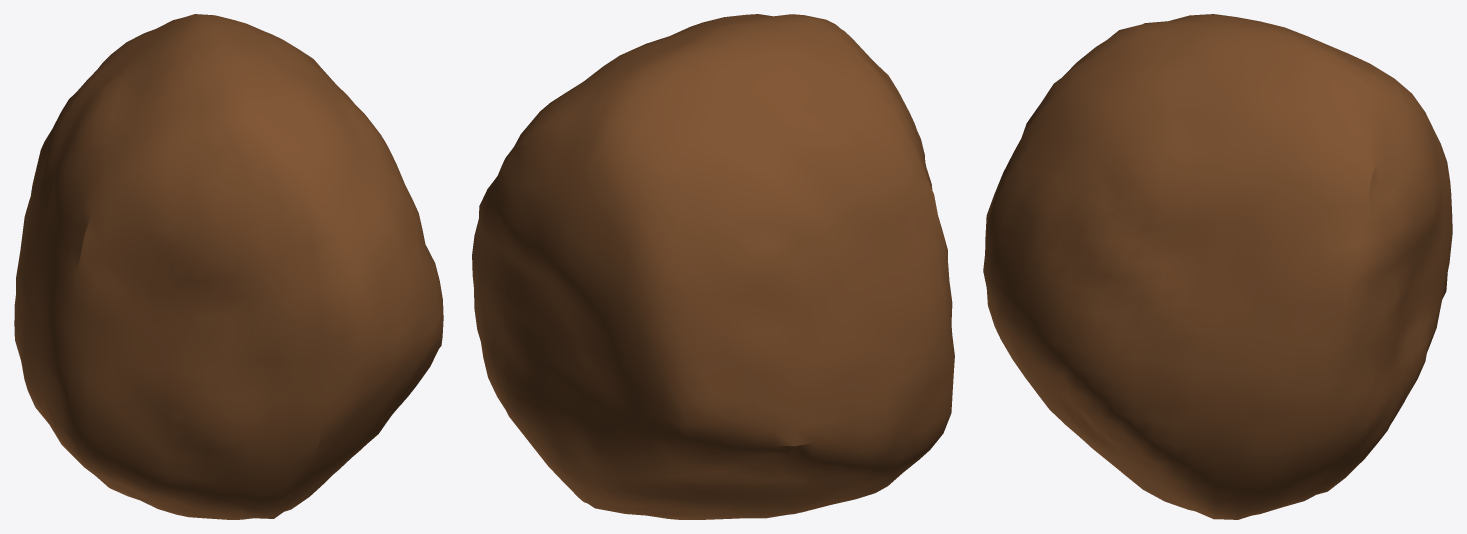
File: obstacle2.obj
The picture shows the model from 3 angles, left to right: view 1: azimuth 30°, elevation 25°; view 2: azimuth 150°, elevation 25°; view 3: azimuth 270°, elevation 25°; orthographic projection. The views are drawn at different scales.
Visible parts, largest first — view 1: rock; view 2: rock; view 3: rock.
Boxes of the visible parts, left/top/right/bottom form: rock: left=14, top=14, right=443, bottom=519; rock: left=472, top=14, right=954, bottom=519; rock: left=983, top=14, right=1452, bottom=519.
Bounding box in the file's own units: 0.9312 × 1.09 × 0.9995.
1 material, 1 textured.
